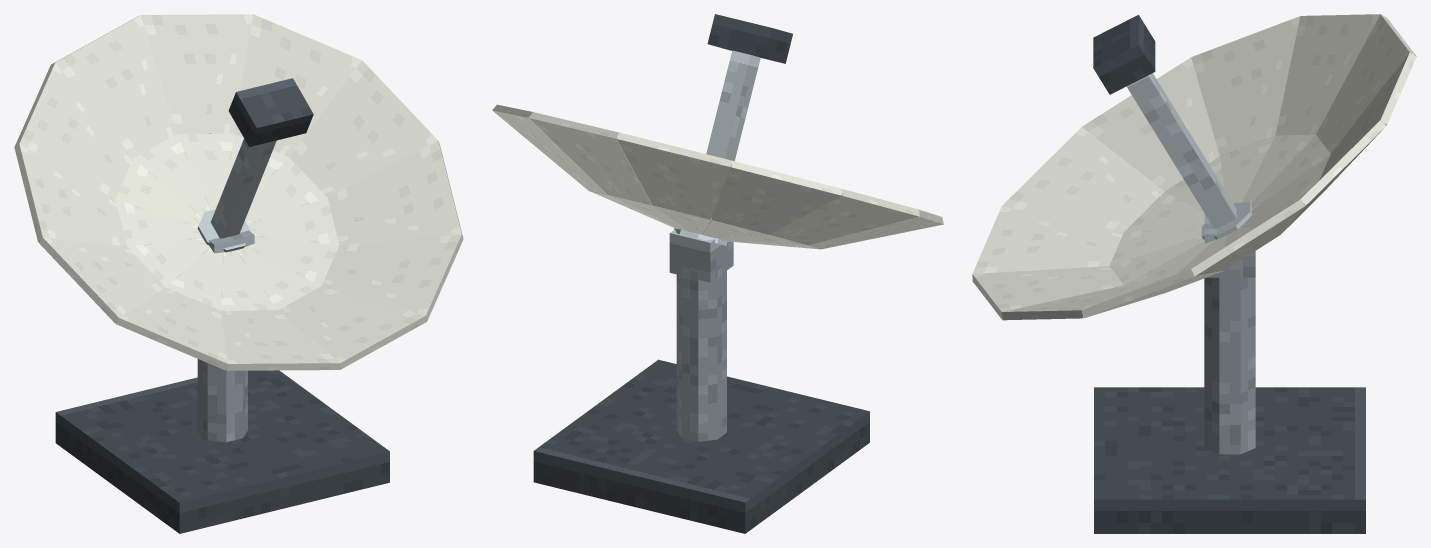
File: f_satellite.glb
3 renders of one model, left to right at view 1: azimuth 30°, elevation 25°; view 2: azimuth 150°, elevation 25°; view 3: azimuth 270°, elevation 25°, orthographic. The views are drawn at different scales.
Parts seen in each view (by area): view 1: block_parabolic-dish-outer-facet (×12), block_mounting-foot, block_parabolic-dish-inner-facet (×12), block_receiver, block_mast, block_feed-arm, block_parabolic-dish-hub, block_mast-to-dish-coupling; view 2: block_mounting-foot, block_parabolic-dish-outer-facet (×6), block_mast, block_feed-arm, block_receiver, block_mast-to-dish-coupling, block_parabolic-dish-inner-facet (×3); view 3: block_parabolic-dish-outer-facet (×12), block_mounting-foot, block_parabolic-dish-inner-facet (×10), block_mast, block_feed-arm, block_receiver, block_mast-to-dish-coupling, block_parabolic-dish-hub.
Boxes of the visible parts, x1,y1,x2,y2 form: block_parabolic-dish-outer-facet (×12): [14, 14, 463, 370]; block_mounting-foot: [55, 370, 389, 533]; block_parabolic-dish-inner-facet (×12): [115, 133, 339, 310]; block_receiver: [228, 78, 313, 146]; block_mast: [197, 359, 247, 442]; block_feed-arm: [210, 138, 276, 238]; block_parabolic-dish-hub: [197, 209, 250, 252]; block_mast-to-dish-coupling: [208, 230, 254, 253]; block_mounting-foot: [533, 359, 869, 533]; block_parabolic-dish-outer-facet (×6): [492, 104, 943, 249]; block_mast: [676, 263, 726, 441]; block_feed-arm: [706, 50, 760, 160]; block_receiver: [707, 14, 792, 63]; block_mast-to-dish-coupling: [669, 229, 733, 282]; block_parabolic-dish-inner-facet (×3): [609, 195, 766, 237]; block_parabolic-dish-outer-facet (×12): [972, 14, 1416, 320]; block_mounting-foot: [1094, 387, 1365, 533]; block_parabolic-dish-inner-facet (×10): [1109, 134, 1330, 285]; block_mast: [1204, 269, 1255, 454]; block_feed-arm: [1126, 73, 1236, 228]; block_receiver: [1093, 14, 1155, 94]; block_mast-to-dish-coupling: [1204, 213, 1255, 277]; block_parabolic-dish-hub: [1201, 202, 1252, 239].
Size of the model in its own units: 0.9164 by 0.8904 by 0.8008.
Materials: 1 (1 with a texture image).
